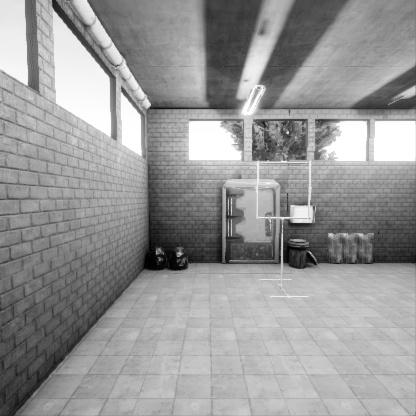gate: (256, 199, 315, 257)
